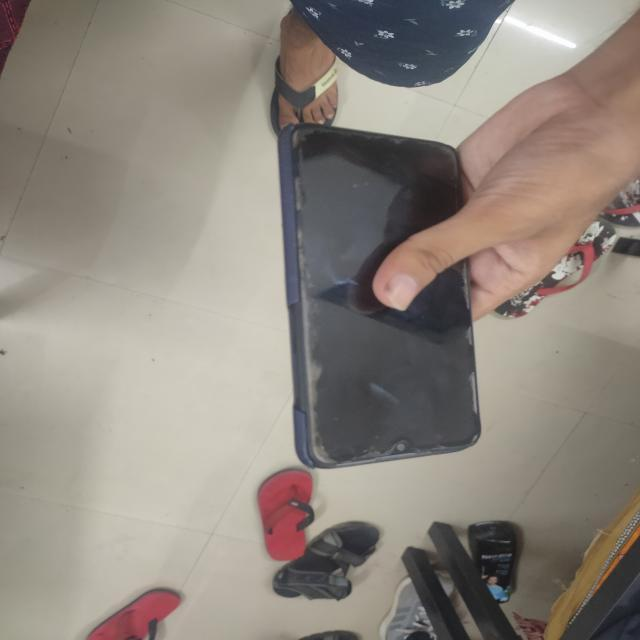Phone: (275, 122, 486, 468)
